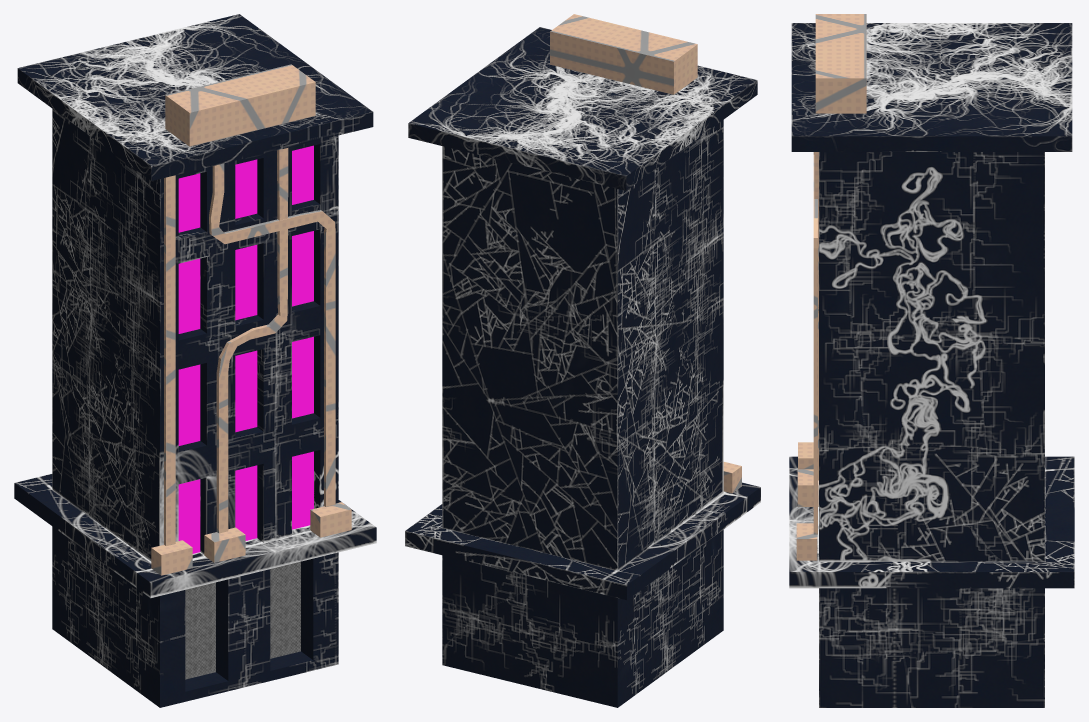
Rendered from cyberpunk_building.glb.
3 renders of one model, left to right at view 1: azimuth 30°, elevation 25°; view 2: azimuth 150°, elevation 25°; view 3: azimuth 270°, elevation 25°, orthographic. The views are drawn at different scales.
Visible parts, largest first — view 1: Box001; view 2: Box001; view 3: Box001.
Boxes of the visible parts, x1,y1,x2,y2 form: Box001: (14,14,376,707); Box001: (405,14,760,707); Box001: (789,14,1074,707).
Bounding box in the file's own units: 1.43 × 3.56 × 1.49.
Materials: 4 (4 with a texture image).
